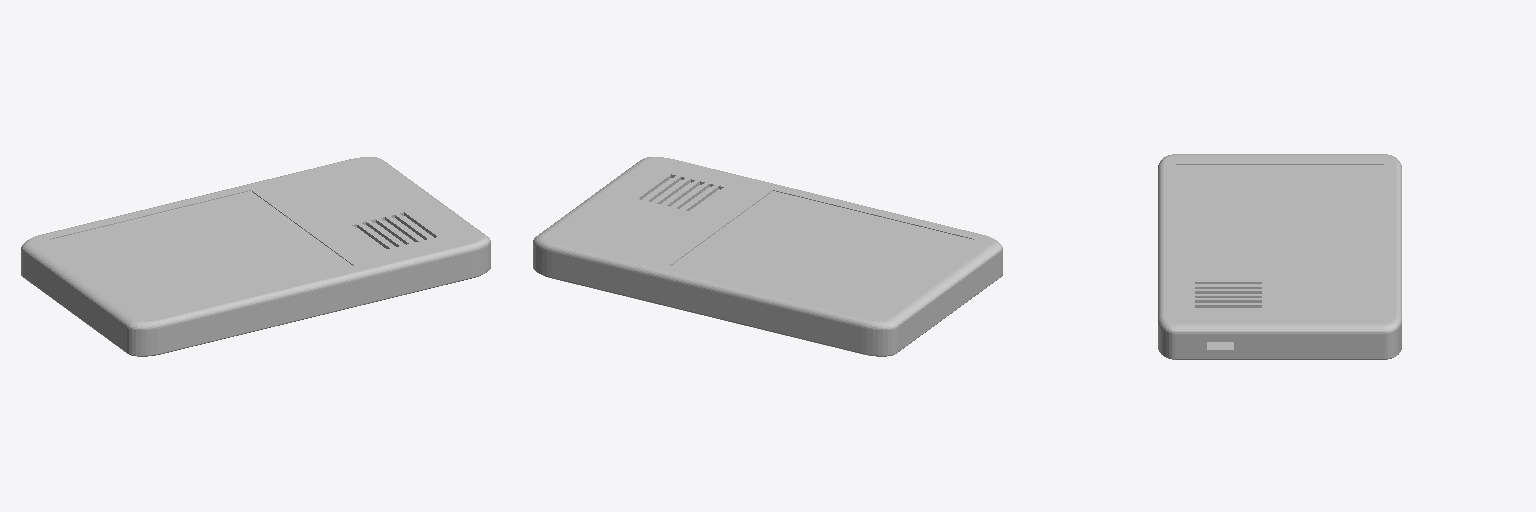
File: beaconModel05.obj
The picture shows the model from 3 angles: view 1: azimuth 30°, elevation 25°; view 2: azimuth 150°, elevation 25°; view 3: azimuth 270°, elevation 25°; orthographic projection.
Visible parts, largest first — view 1: screen; view 2: screen; view 3: screen.
Part boxes in pixels (bbox=[...]): screen: bbox=[21, 157, 490, 356]; screen: bbox=[533, 157, 1002, 356]; screen: bbox=[1158, 154, 1401, 359].
Bounding box in the file's own units: 3.43 × 0.2958 × 2.